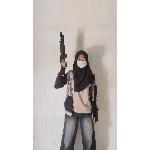Senapan: (54, 30, 74, 80)
